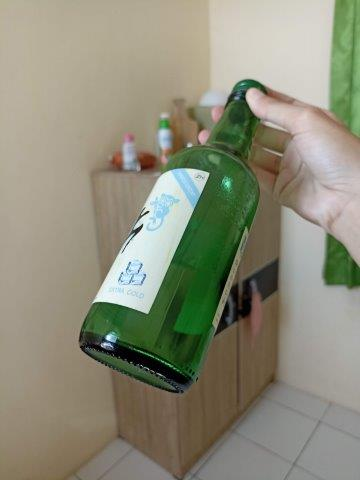botolkaca: (80, 80, 268, 396)
